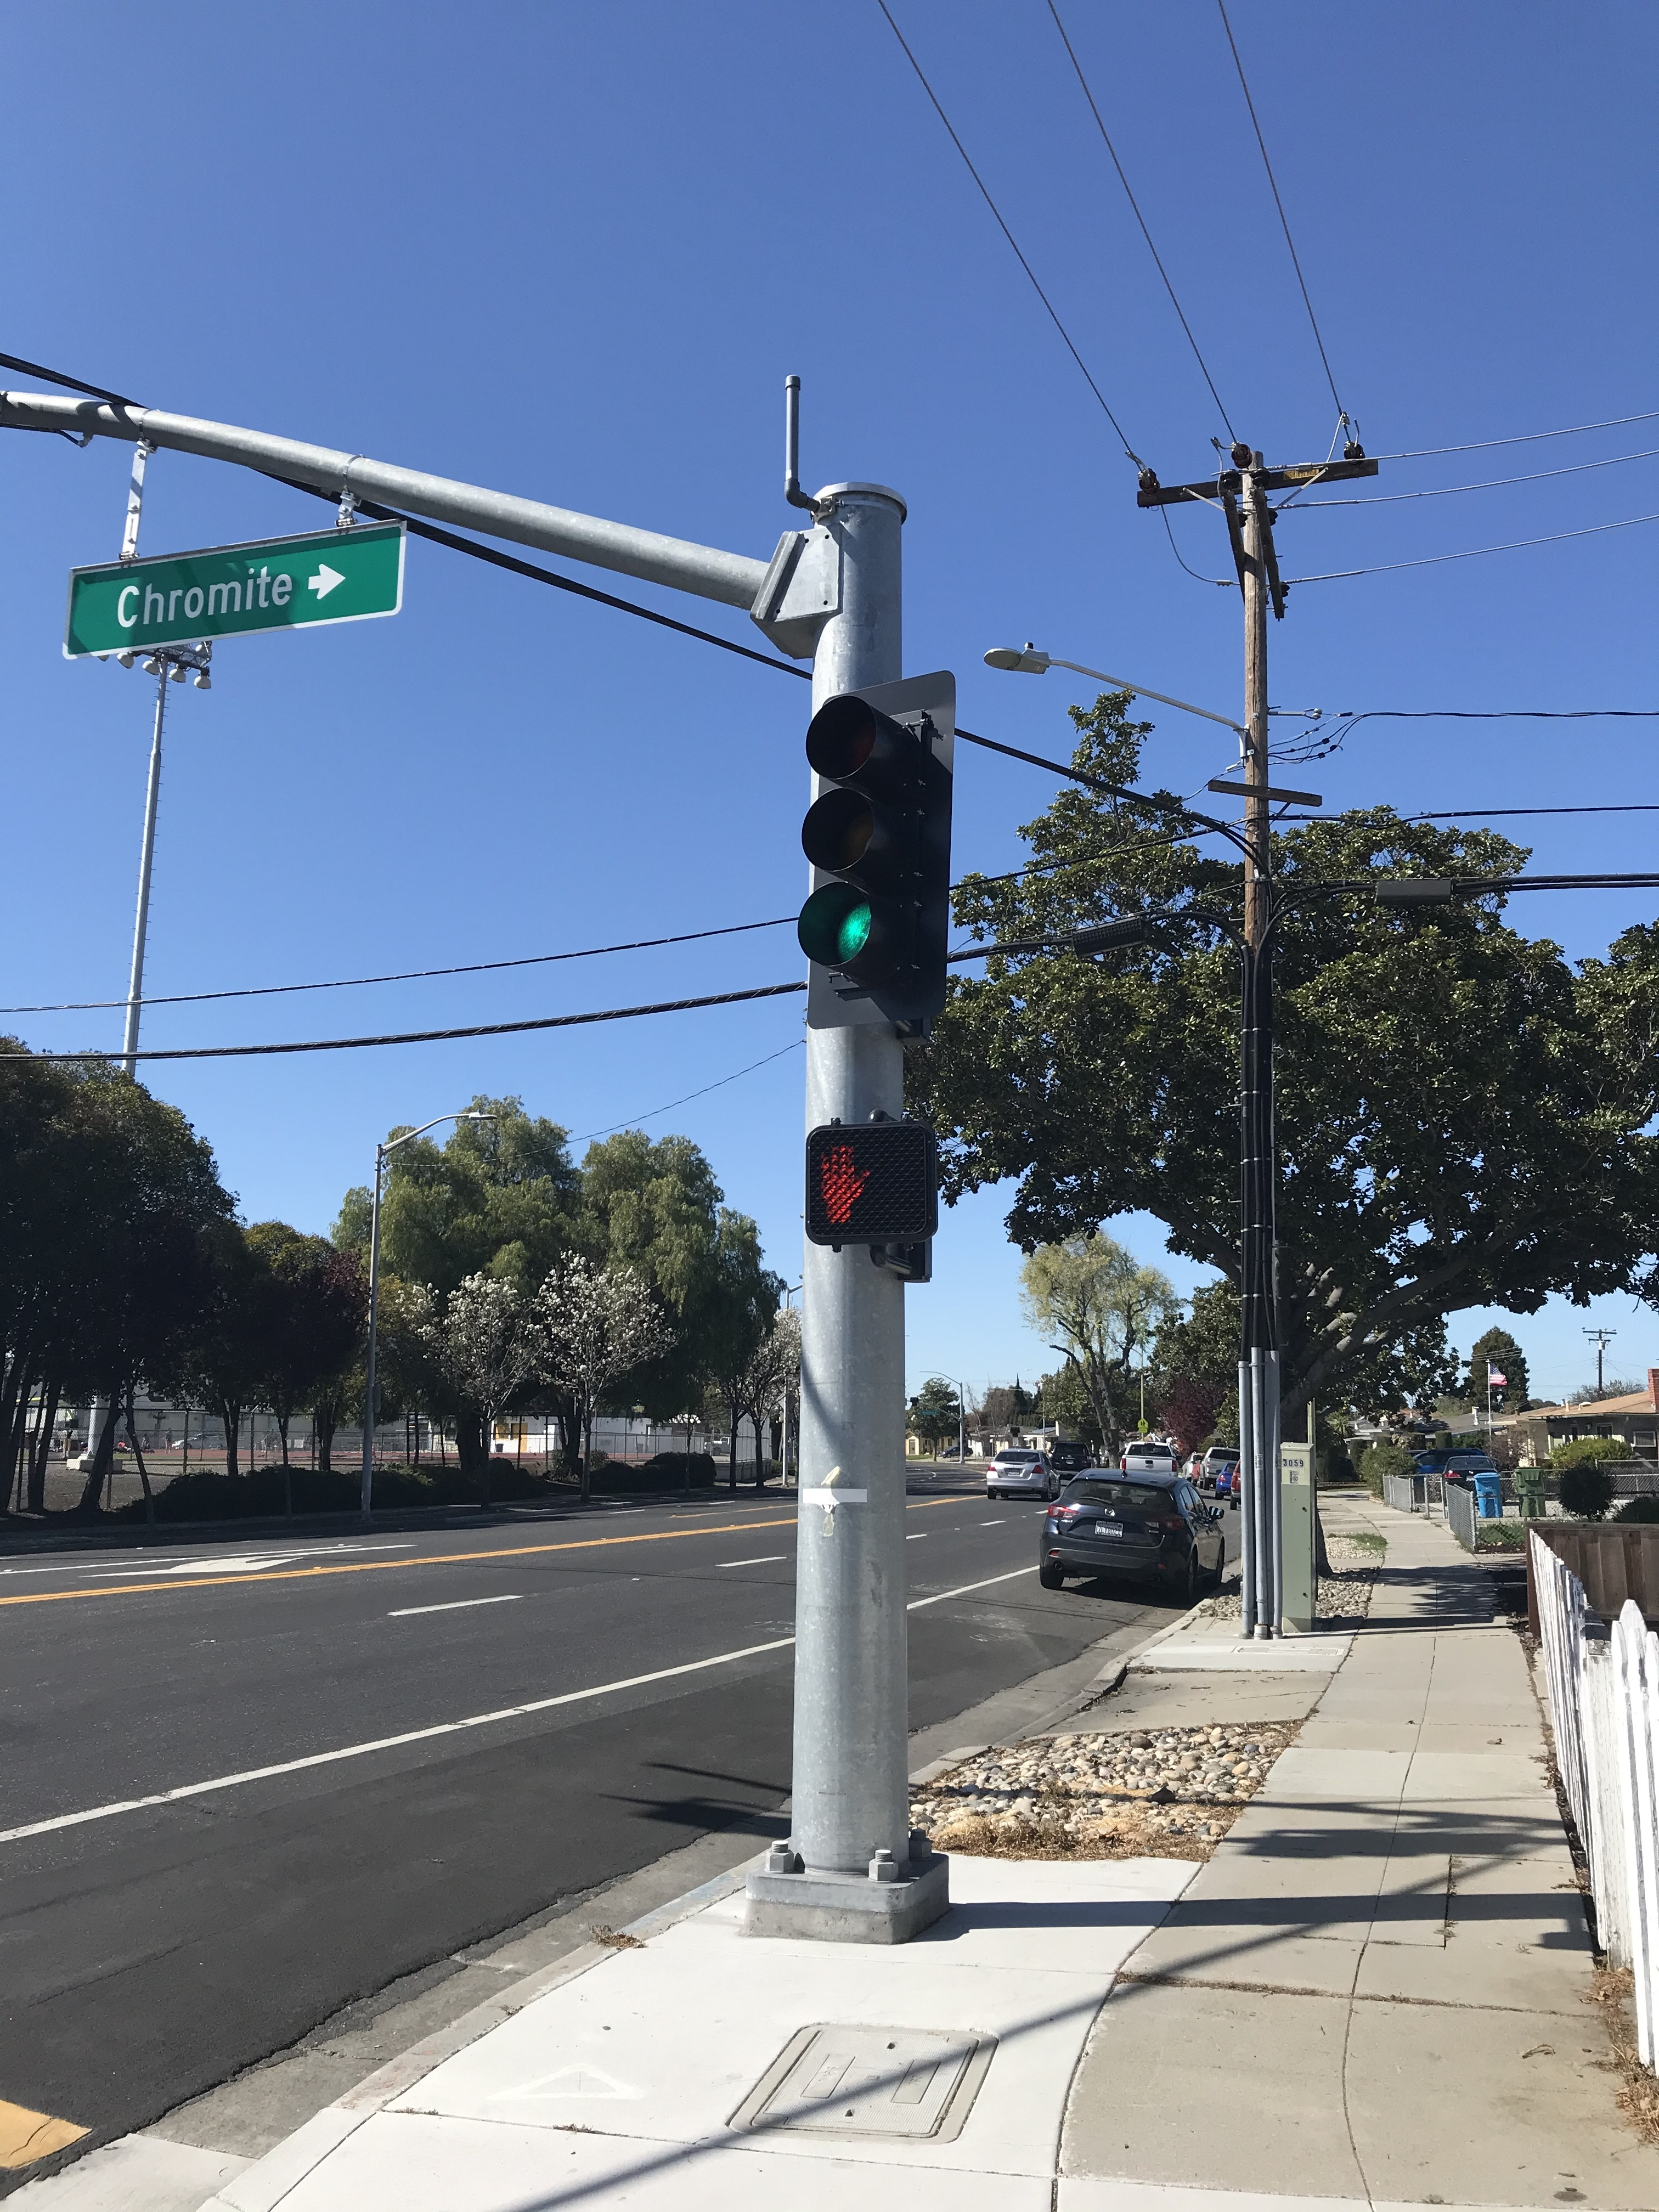green_light: (817, 693, 910, 991)
